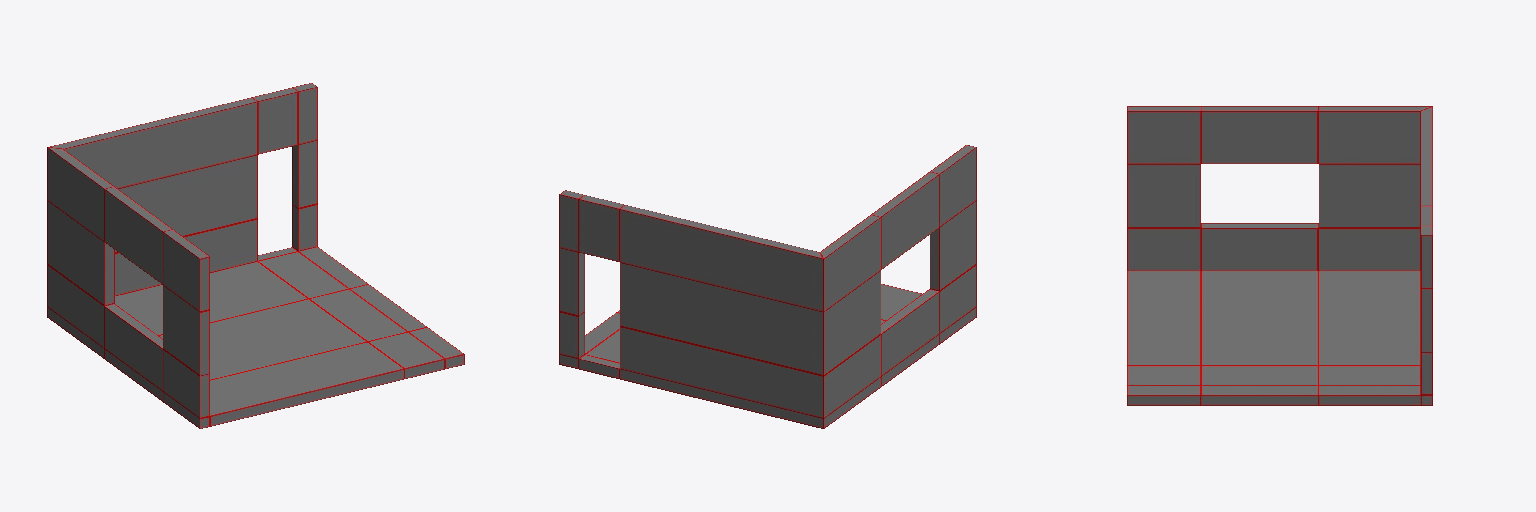
The picture shows the model from 3 angles: view 1: azimuth 30°, elevation 25°; view 2: azimuth 150°, elevation 25°; view 3: azimuth 270°, elevation 25°; orthographic projection.
Visible parts, largest first — view 1: room; view 2: room; view 3: room.
Part boxes in pixels (x1,y1,x2,y2): room: (47,83,464,428); room: (559,145,976,428); room: (1127,106,1432,405).
Bounding box in the file's own units: 520 × 320 × 520.
Materials: 1 (1 with a texture image).